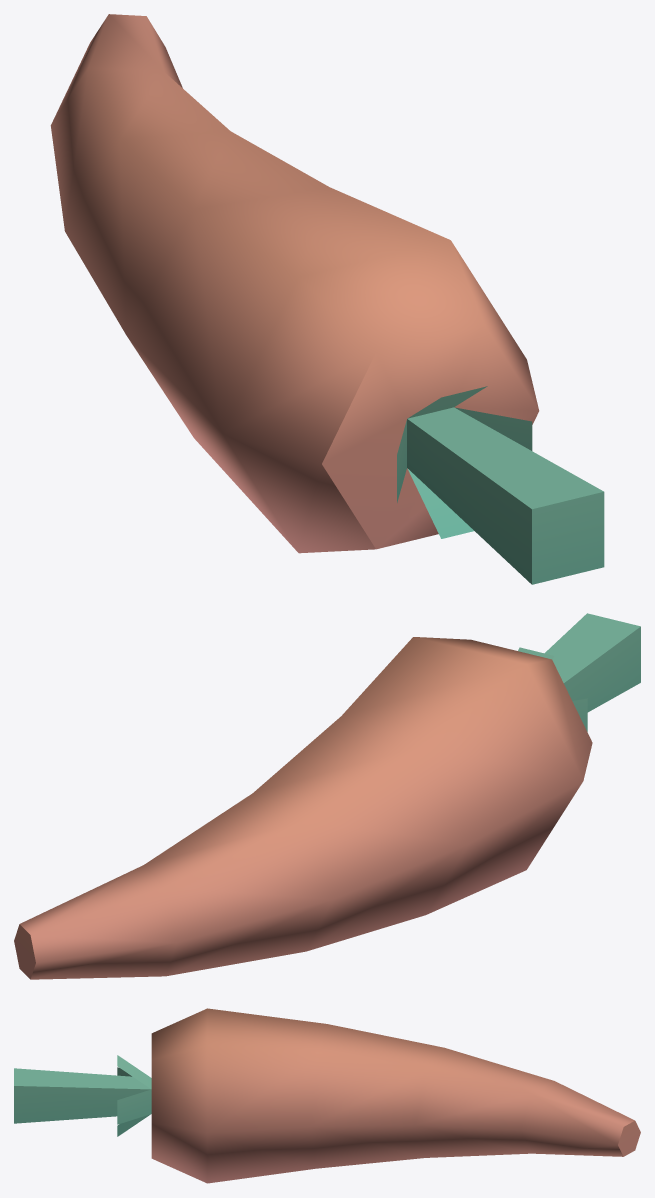
Rendered from pepper.glb.
The picture shows the model from 3 angles, top to bottom: view 1: azimuth 30°, elevation 25°; view 2: azimuth 150°, elevation 25°; view 3: azimuth 270°, elevation 25°; orthographic projection. The views are drawn at different scales.
Parts seen in each view (by area): view 1: pepper; view 2: pepper; view 3: pepper.
Part boxes in pixels (x1,y1,x2,y2): pepper: (50,14,604,584); pepper: (14,613,640,979); pepper: (14,1008,640,1183).
Bounding box in the file's own units: 0.1039 × 0.0775 × 0.3191.
